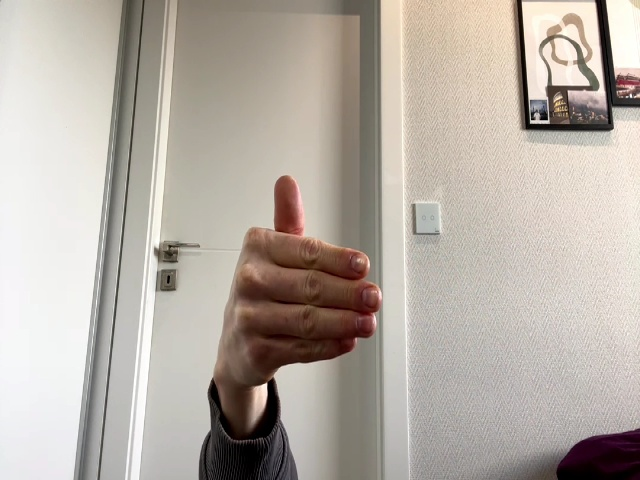M: (216, 175, 382, 384)
